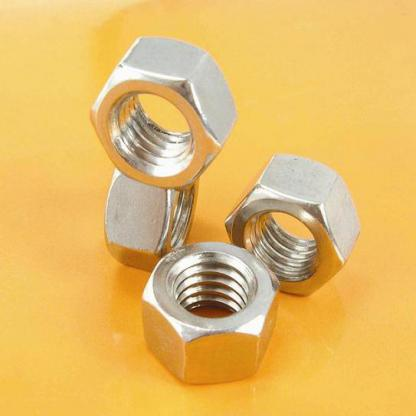FOD: (90, 34, 239, 189), (223, 150, 361, 298), (139, 240, 277, 385), (102, 159, 202, 274)
